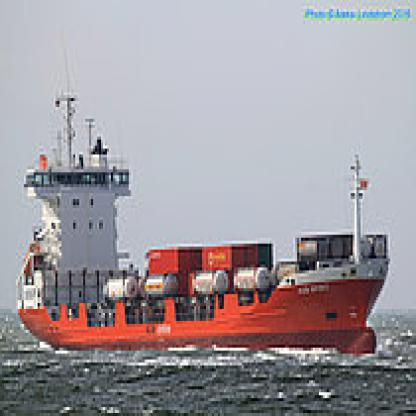Container Ship: (14, 44, 391, 356)
